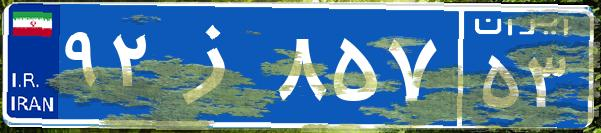2: (110, 28, 158, 105)
3: (525, 38, 570, 115)
5: (330, 28, 385, 110), (475, 38, 525, 113)
7: (385, 28, 445, 110)
8: (273, 28, 330, 110)
9: (57, 26, 110, 107)
ز: (158, 15, 273, 115)
